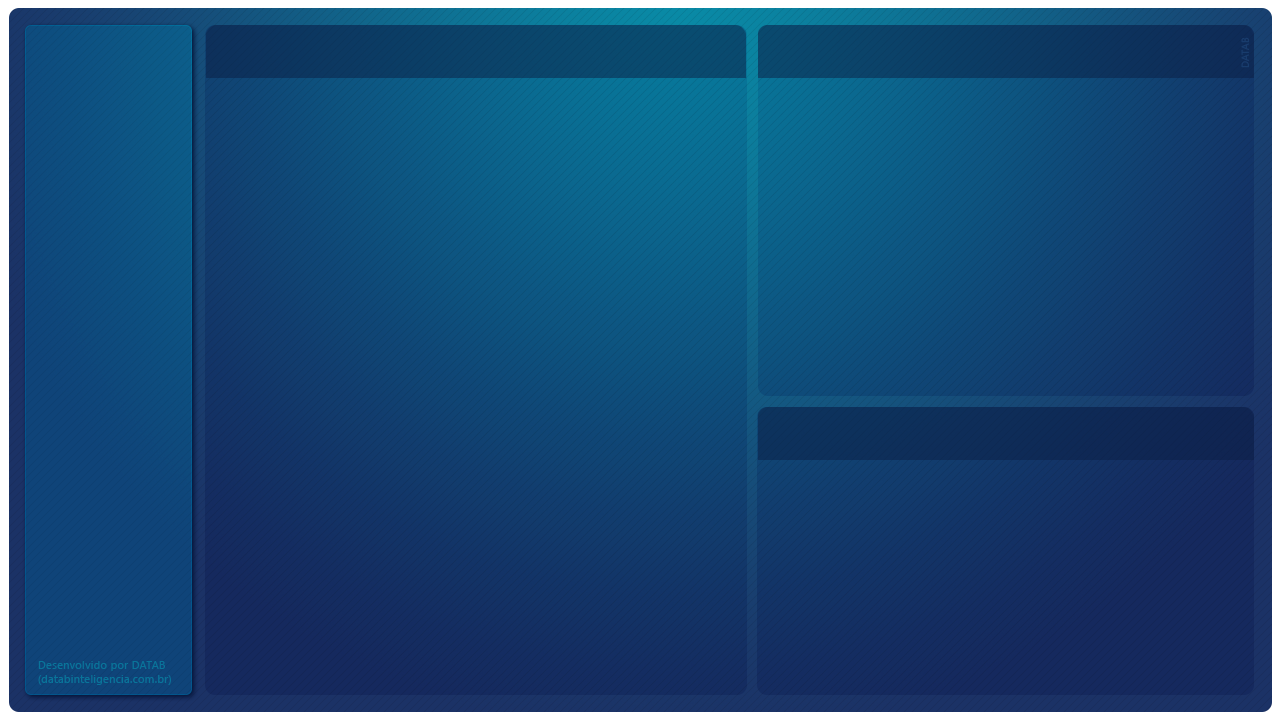

The dashboard page shown, as its layout file describes it:
{"tool":"powerbi","page":{"name":"TOP 50 de filmes","canvas":[1280,720],"ordinal":0},"visuals":[{"type":"tableEx","fields":{"Values":["TOP 50 Bilheterias Files.Título","TOP 50 Bilheterias Files.Ano","TOP 50 Bilheterias Files.Arrecadação"]},"box":[241.4,520.7,497.6,191.2],"z":0},{"type":"textbox","box":[89.7,156.3,111.4,50.3],"z":5},{"type":"textbox","box":[46.2,31.3,1148.2,78.8],"z":6},{"type":"image","box":[21.7,13.6,150.8,112.8],"z":7},{"type":"image","box":[1096.6,13.6,153.5,101.9],"z":8},{"type":"image","box":[2.7,150.8,107.3,62.5],"z":9},{"type":"columnChart","title":"Títulos e arrecadação por ano","fields":{"Category":["TOP 50 Bilheterias Files.Título"],"Y":["CountNonNull(TOP 50 Bilheterias Files.Título)"],"Series":["TOP 50 Bilheterias Files.Ano"]},"box":[225.6,126.4,1054.4,404.9],"z":1000},{"type":"slicer","fields":{"Values":["TOP 50 Bilheterias Files.Título"]},"box":[20.3,206.1,180.3,240],"z":2000},{"type":"slicer","fields":{"Values":["TOP 50 Bilheterias Files.Ano"]},"box":[20.3,456.9,180.3,214.2],"z":3000}]}

Visuals, with their boxes in screenshot pixels (x1, y1, x2, y2), scaled from the page's 1280x720 canvas onto the 1280x720 screenshot:
tableEx - TOP 50 Bilheterias Files.Título x TOP 50 Bilheterias Files.Ano: 241,521,739,712
textbox: 90,156,201,207
textbox: 46,31,1194,110
image: 22,14,172,126
image: 1097,14,1250,116
image: 3,151,110,213
"Títulos e arrecadação por ano" columnChart: 226,126,1279,531
slicer - TOP 50 Bilheterias Files.Título: 20,206,201,446
slicer - TOP 50 Bilheterias Files.Ano: 20,457,201,671
